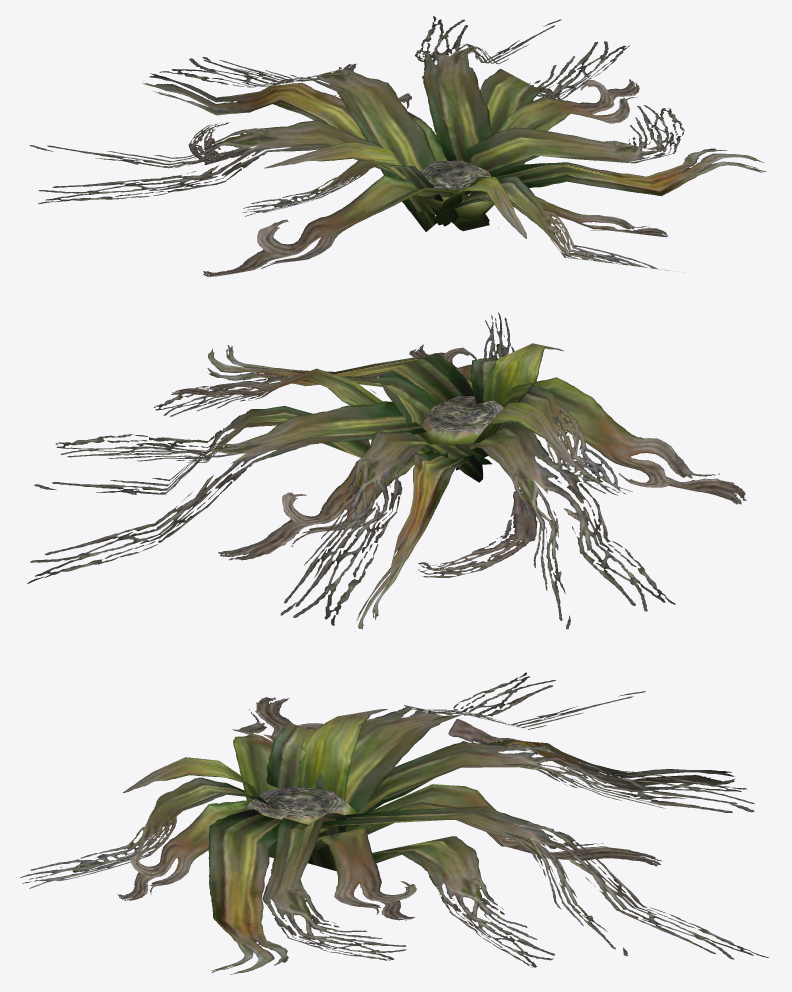
File: plant_vege_061.FBX
The picture shows the model from 3 angles, top to bottom: view 1: azimuth 30°, elevation 25°; view 2: azimuth 150°, elevation 25°; view 3: azimuth 270°, elevation 25°; orthographic projection. The views are drawn at different scales.
Parts seen in each view (by area): view 1: plant_vege_061_01; view 2: plant_vege_061_01; view 3: plant_vege_061_01.
Boxes of the visible parts, x1,y1,x2,y2 form: plant_vege_061_01: (29, 16, 766, 276); plant_vege_061_01: (27, 312, 746, 629); plant_vege_061_01: (20, 672, 768, 974).
Size of the model in its own units: 8.68 by 1.34 by 8.78.
